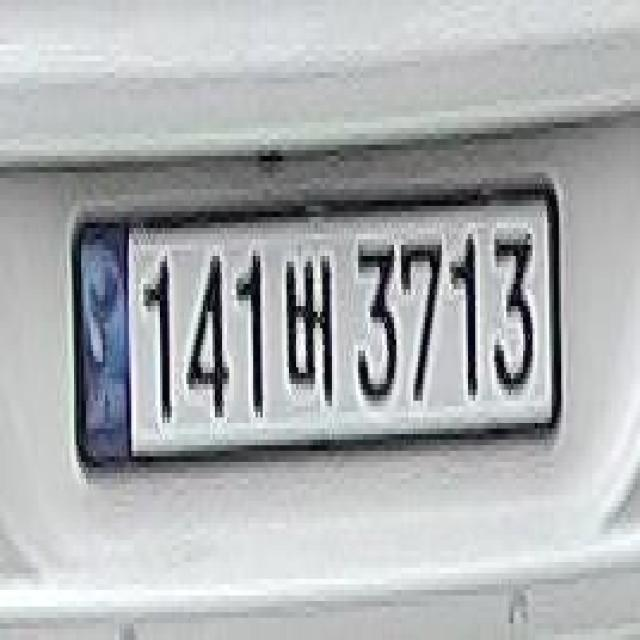illegal_plate: (69, 175, 562, 478)
